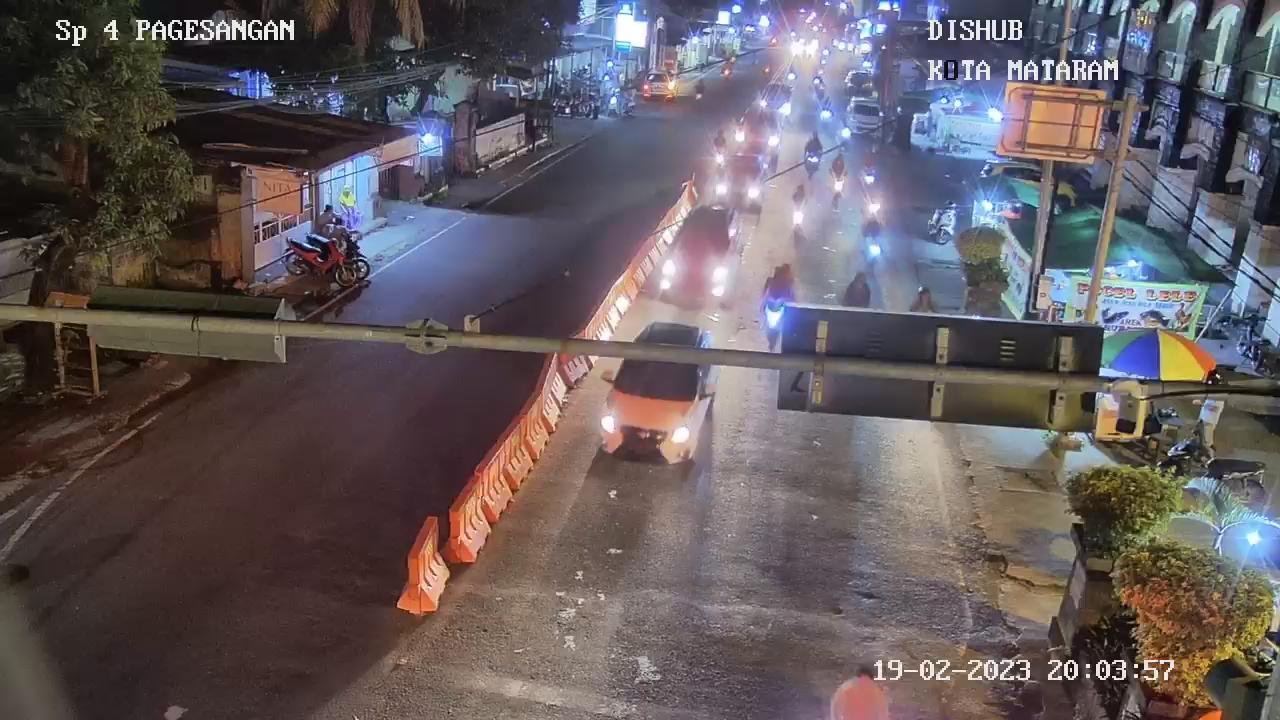car: (592, 315, 725, 471), (653, 193, 741, 312), (705, 149, 769, 214), (729, 107, 782, 164), (754, 77, 793, 122)
motorbike: (754, 292, 792, 353), (927, 198, 956, 250), (855, 234, 886, 272), (855, 165, 881, 204), (786, 197, 811, 237), (826, 169, 848, 211), (801, 146, 824, 181), (832, 123, 853, 152), (807, 72, 828, 97), (816, 105, 834, 130), (711, 148, 730, 170)
person: (836, 269, 876, 312), (761, 254, 796, 303), (858, 205, 886, 240), (856, 147, 879, 177), (824, 150, 847, 179), (802, 126, 825, 153), (789, 178, 807, 212), (708, 128, 728, 151), (817, 90, 834, 110)
